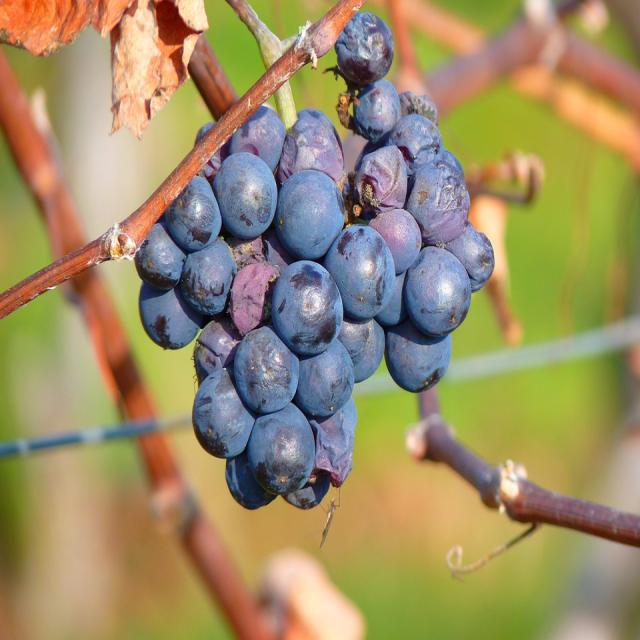grape: (272, 261, 343, 355), (324, 225, 394, 318), (247, 404, 315, 495), (276, 170, 344, 259), (404, 247, 471, 335), (234, 326, 299, 413), (192, 368, 255, 457), (214, 152, 277, 239), (406, 162, 469, 245), (386, 320, 451, 391), (294, 340, 354, 416), (276, 117, 344, 183), (180, 239, 236, 315), (139, 282, 202, 349), (165, 176, 221, 251), (335, 13, 393, 85), (310, 399, 357, 487), (229, 105, 285, 172), (354, 146, 407, 213), (229, 263, 278, 334), (134, 222, 185, 290), (370, 208, 421, 275), (446, 222, 494, 292), (388, 114, 441, 176), (194, 315, 241, 383), (226, 450, 276, 509), (338, 318, 383, 383), (354, 80, 400, 142), (297, 108, 342, 149), (375, 272, 407, 326), (283, 473, 331, 509), (262, 228, 295, 272), (399, 91, 437, 125), (226, 236, 265, 269), (200, 142, 228, 183), (436, 148, 463, 175)
